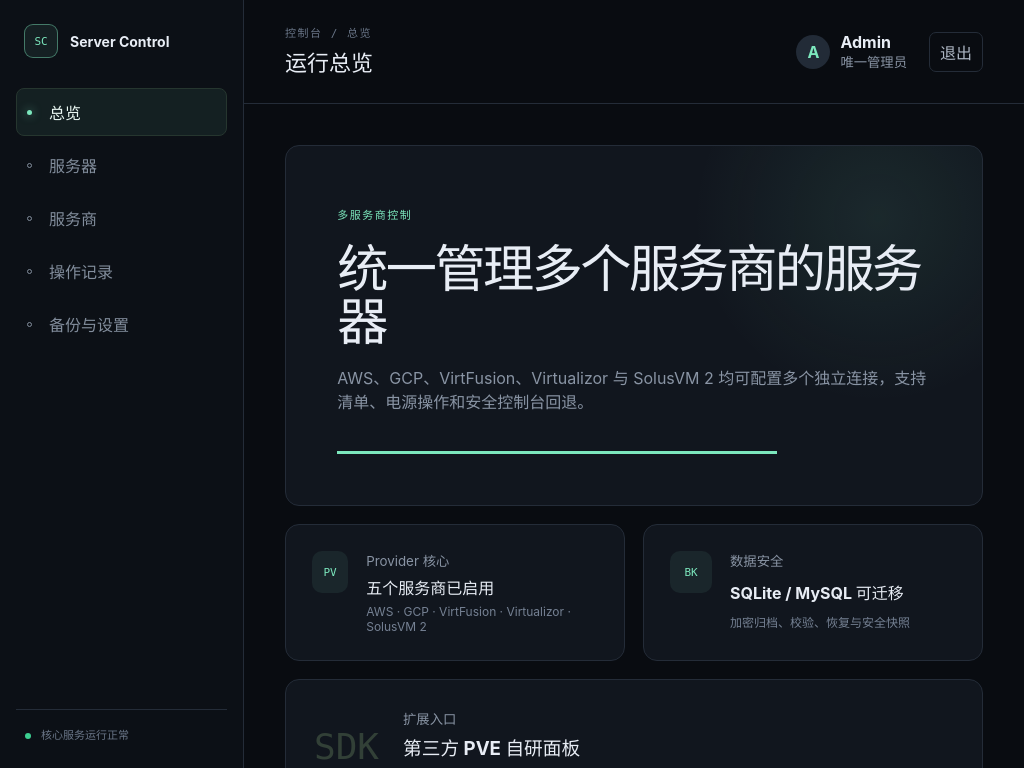
Test: navigates to provider connections and unified servers
Click the button "服务商" at [122, 218], box left=16, top=194, right=227, bottom=242
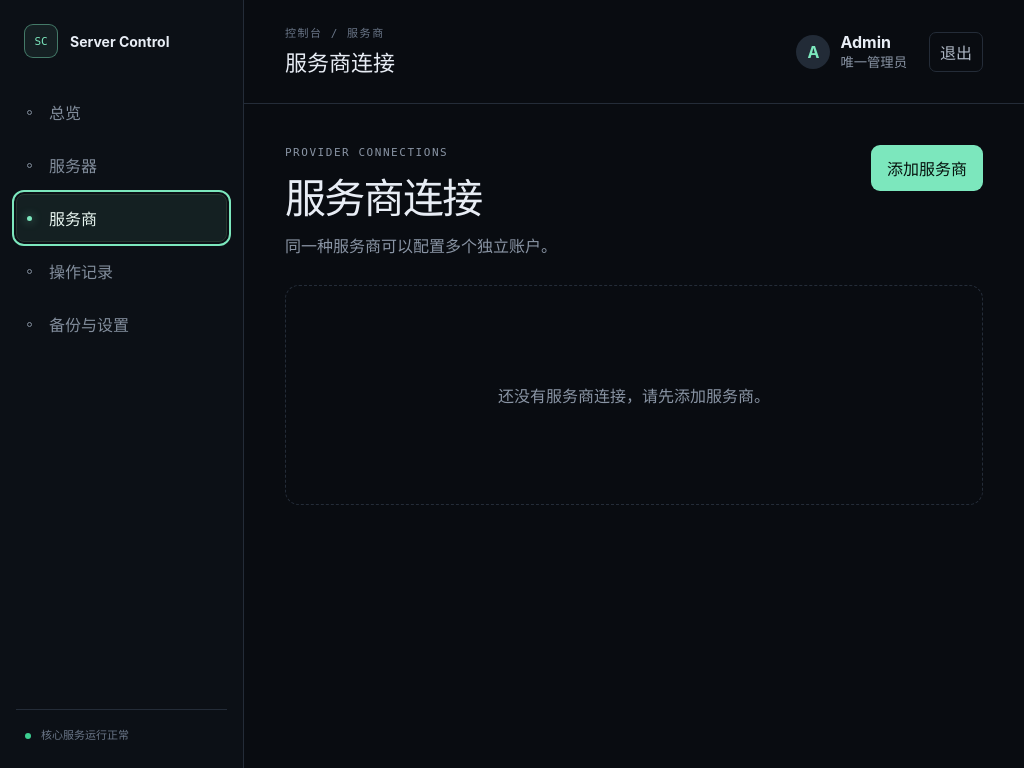
Now the heading "服务商连接" below "Provider connections" is shown, box left=285, top=173, right=482, bottom=223
Click the button "服务器" at [122, 165], box left=16, top=141, right=227, bottom=189
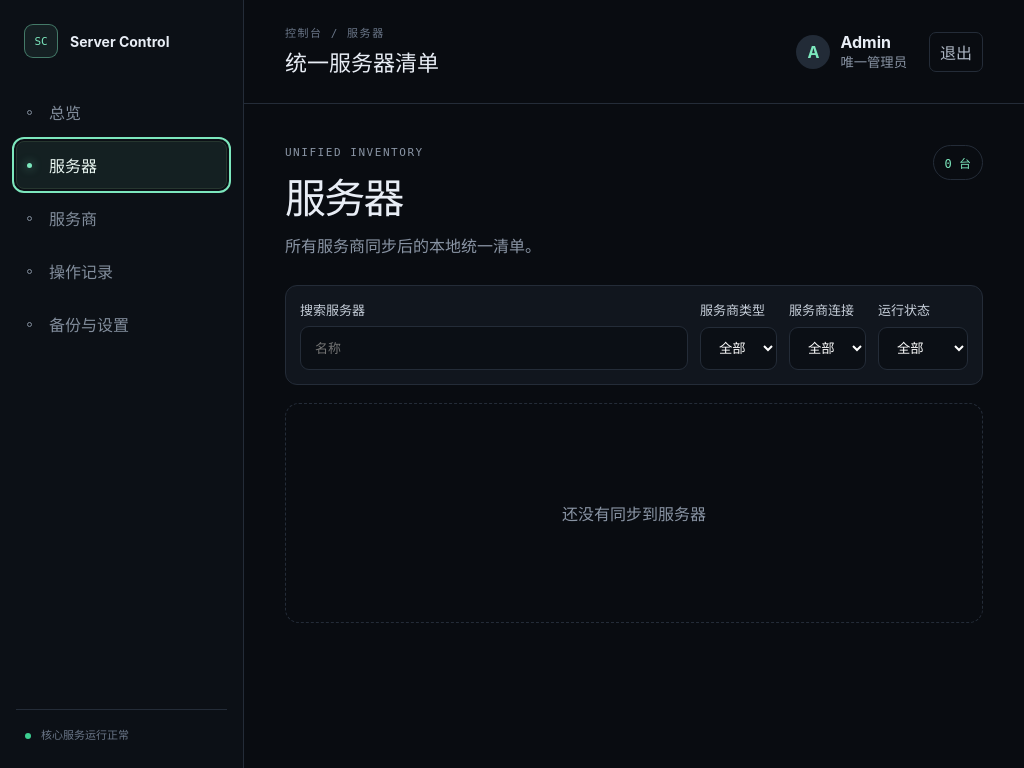
Now the heading "服务器" is shown, box left=285, top=173, right=403, bottom=223
Now the text "还没有同步到服务器" is shown, box left=285, top=403, right=983, bottom=623
Click the button "操作记录" at [122, 271], box left=16, top=247, right=227, bottom=295
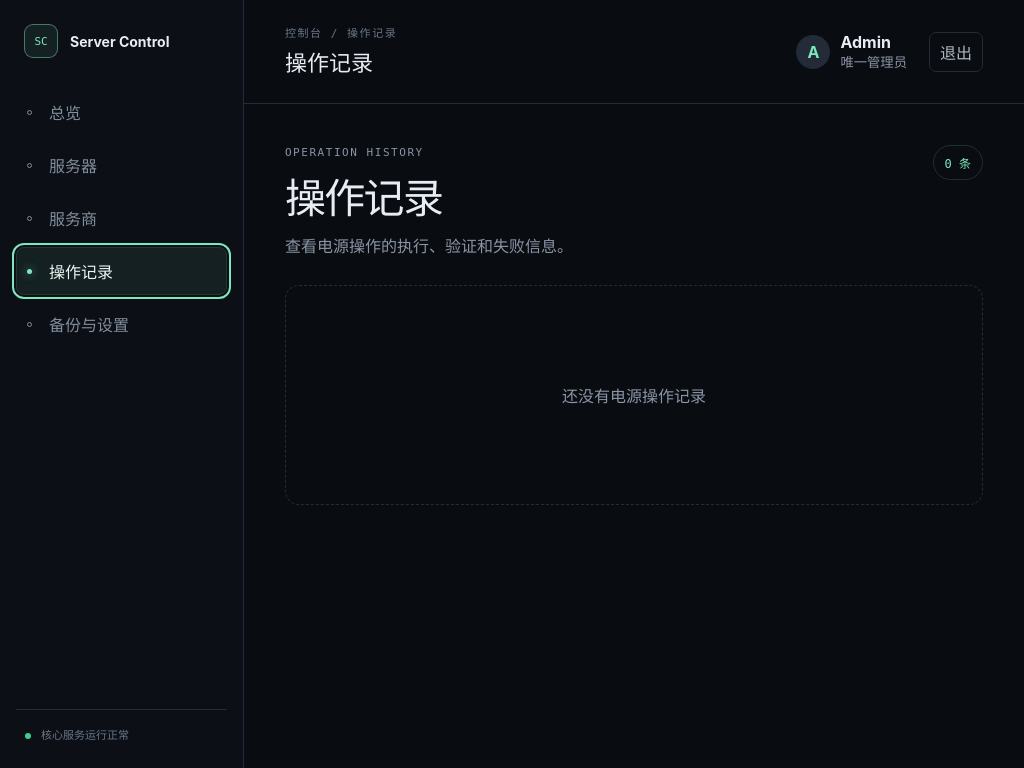
Now the heading "操作记录" below "Operation history" is shown, box left=285, top=173, right=442, bottom=223
Now the text "还没有电源操作记录" is shown, box left=285, top=285, right=983, bottom=505
Click the button "备份与设置" at [122, 324], box left=16, top=300, right=227, bottom=348
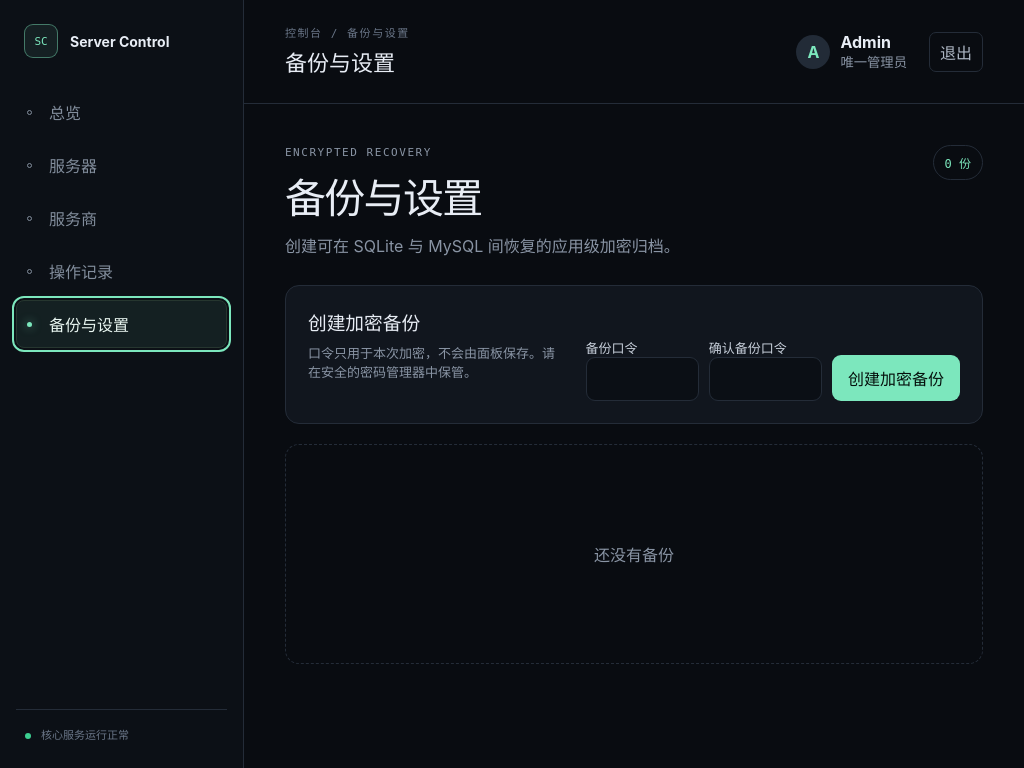
Now the heading "备份与设置" below "Encrypted recovery" is shown, box left=285, top=173, right=482, bottom=223
Now the text "还没有备份" is shown, box left=285, top=444, right=983, bottom=664
